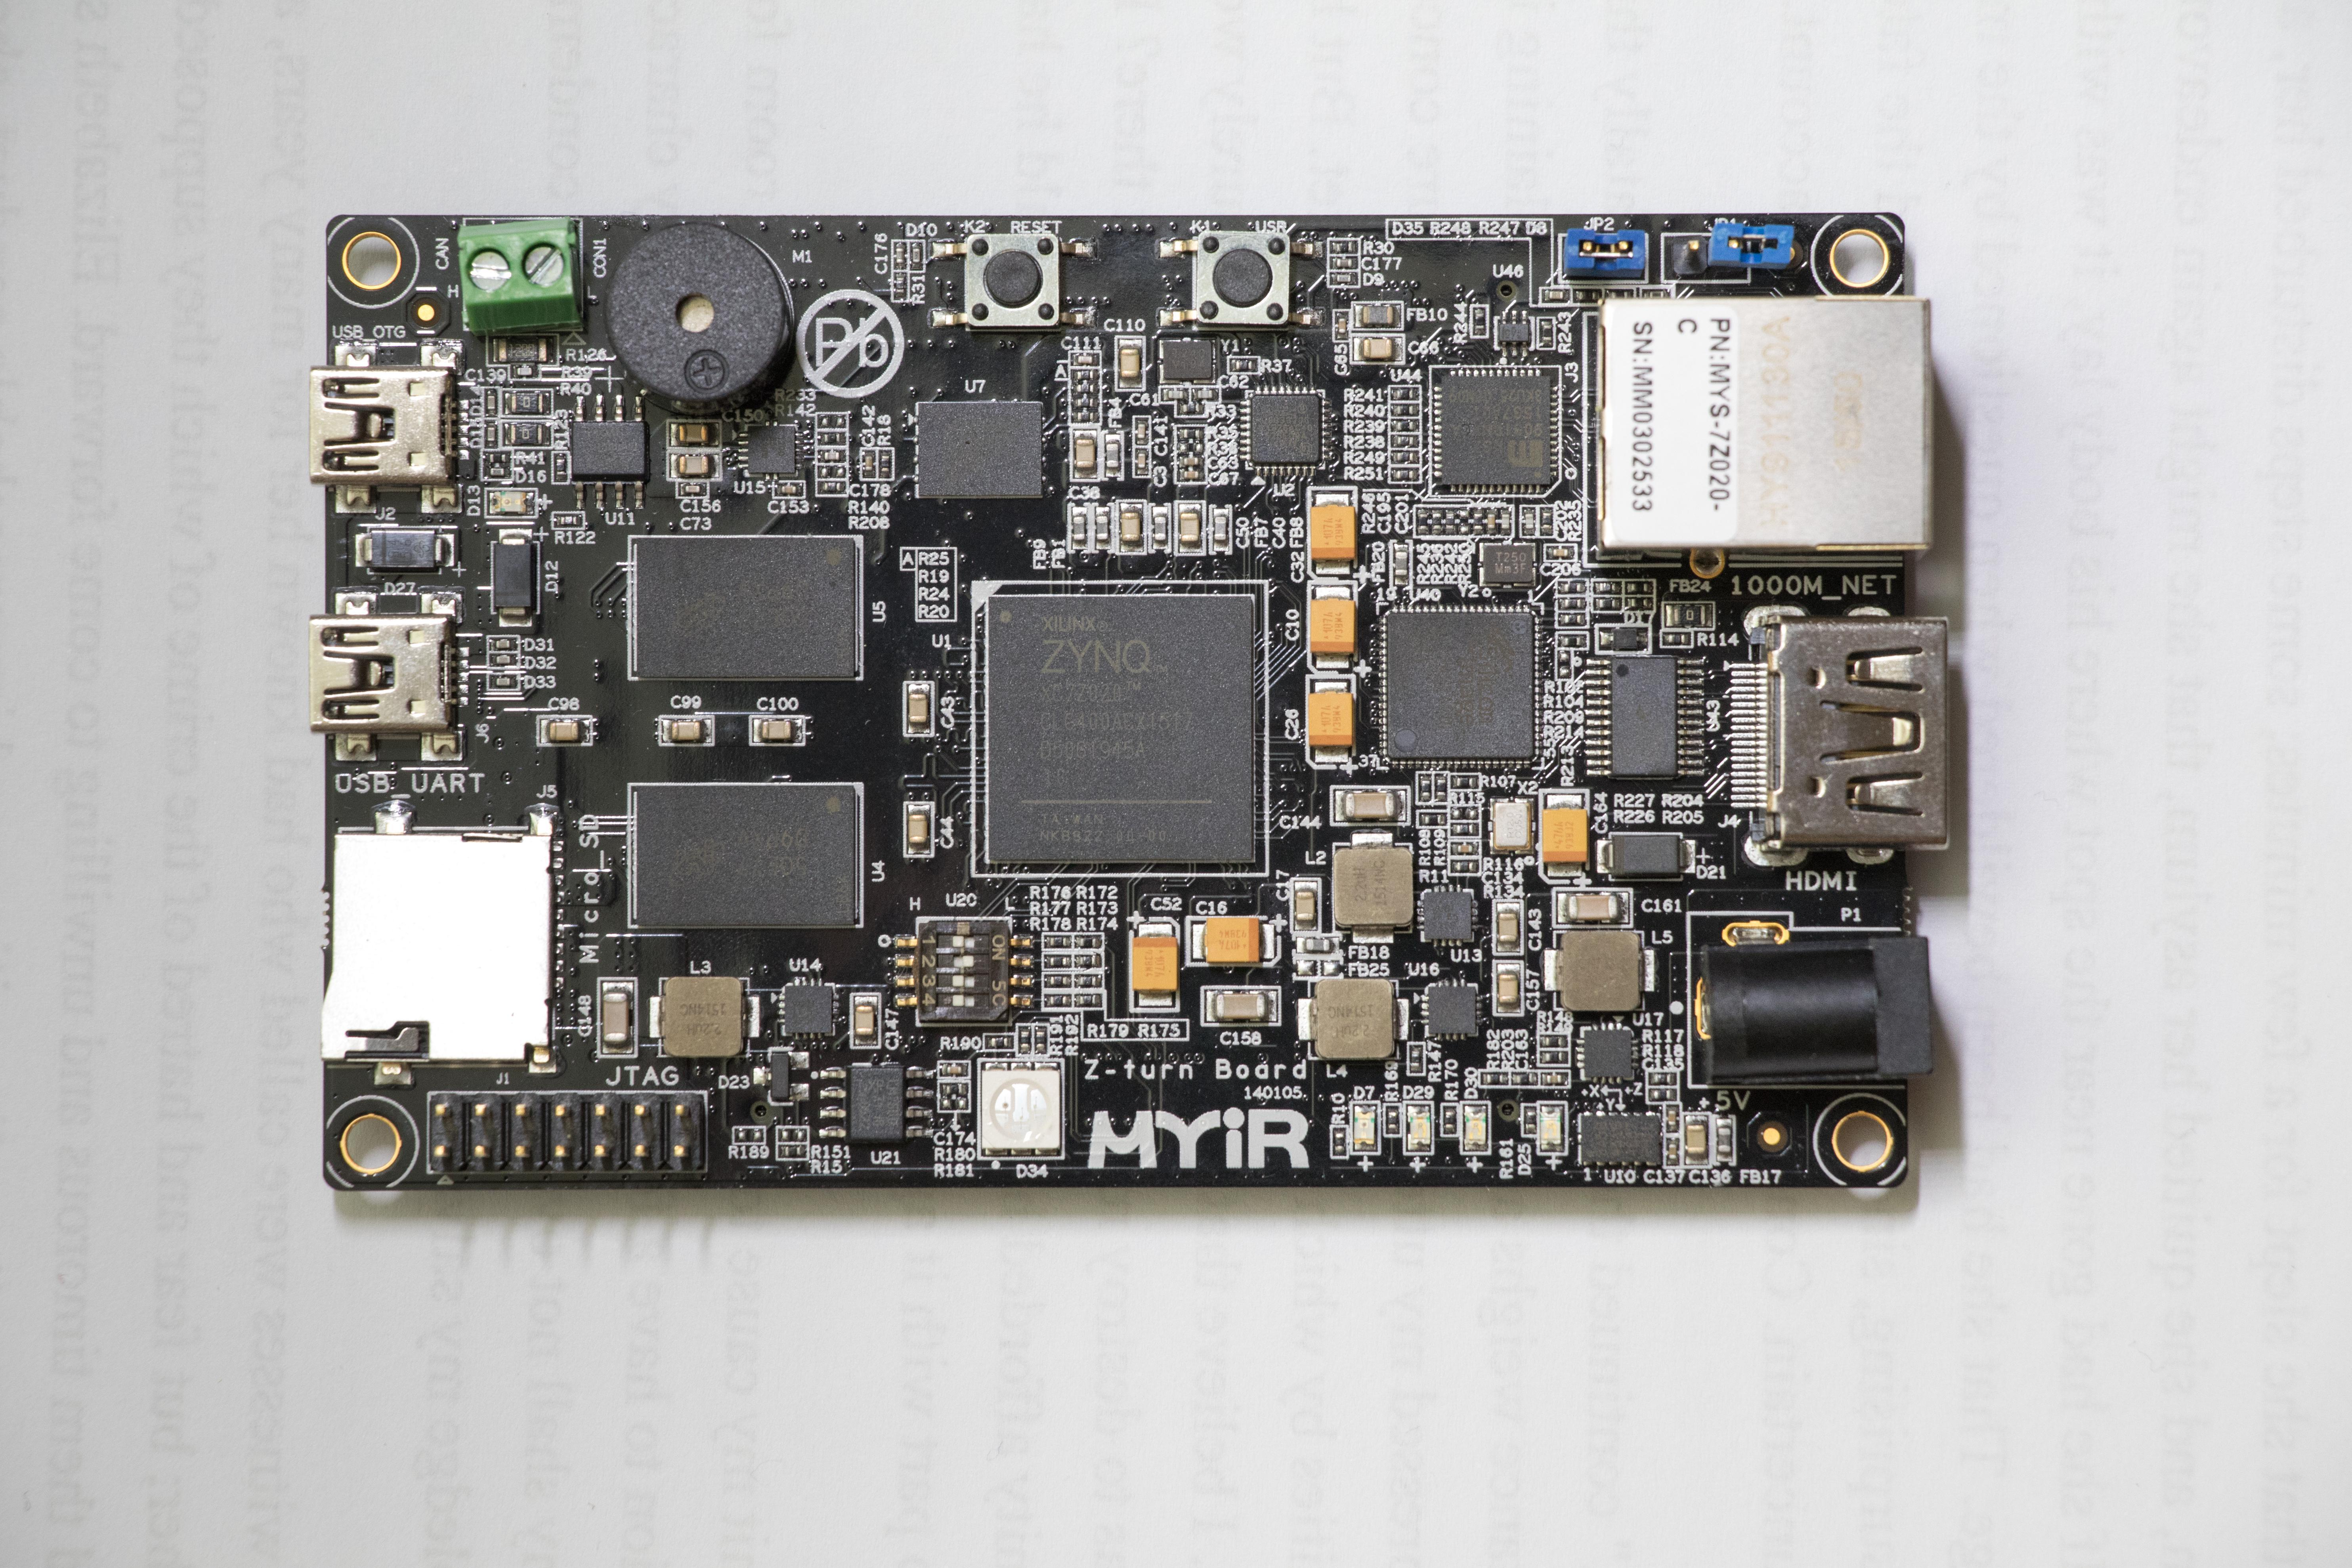Button: (1160, 232, 1323, 328), (932, 235, 1095, 327)
Capacitor: (1331, 785, 1412, 827), (1551, 886, 1632, 928), (597, 977, 637, 1058), (1200, 987, 1281, 1026), (902, 800, 935, 859), (749, 714, 805, 747), (659, 714, 716, 747), (902, 681, 934, 736), (1114, 335, 1145, 392), (666, 447, 720, 479), (1492, 962, 1525, 1016), (537, 715, 592, 746), (1682, 1112, 1712, 1167), (1175, 501, 1205, 556), (1071, 428, 1102, 479), (851, 993, 880, 1048), (665, 420, 721, 448), (1493, 901, 1522, 955), (1291, 879, 1320, 934), (1118, 501, 1145, 556), (1354, 336, 1404, 364), (1132, 446, 1153, 477), (815, 447, 848, 465), (859, 447, 877, 482), (1543, 544, 1577, 562), (891, 239, 909, 273), (938, 1060, 971, 1079), (1133, 415, 1152, 446), (772, 481, 805, 498), (1664, 1102, 1681, 1134), (1663, 1135, 1681, 1166), (1327, 254, 1361, 271), (675, 482, 709, 498), (1540, 1070, 1570, 1088), (1497, 505, 1513, 537), (1158, 386, 1190, 402), (1520, 506, 1536, 537), (1174, 468, 1208, 483), (1449, 841, 1481, 856), (1175, 454, 1209, 468), (1189, 386, 1220, 401), (1334, 311, 1350, 340), (1484, 504, 1497, 537), (510, 365, 539, 378)
Connector: (1584, 296, 1933, 569), (316, 808, 558, 1073), (1744, 605, 1951, 866), (1687, 913, 1936, 1089), (307, 338, 468, 512), (427, 1137, 713, 1223), (459, 216, 585, 331), (1659, 232, 1708, 283)
Diode: (306, 596, 469, 770), (1595, 832, 1697, 881), (352, 529, 458, 572), (491, 538, 538, 616), (751, 1048, 810, 1104), (1595, 624, 1652, 655), (487, 671, 520, 693), (1328, 271, 1361, 289), (1541, 287, 1572, 306), (487, 654, 521, 670), (908, 239, 924, 273), (482, 418, 499, 450), (483, 387, 499, 418), (482, 465, 514, 481), (488, 636, 520, 651), (1641, 287, 1673, 299)
Electrolytic Capacitor: (1306, 580, 1358, 672), (1306, 674, 1355, 770), (1307, 489, 1356, 582), (1540, 791, 1587, 882), (1132, 920, 1178, 1013), (1190, 918, 1280, 964)
IC: (972, 578, 1269, 874), (627, 782, 866, 934), (627, 534, 865, 682), (1382, 616, 1546, 773), (1429, 365, 1561, 496), (1586, 655, 1704, 777), (913, 401, 1045, 498), (820, 1062, 933, 1144), (571, 395, 648, 509), (1240, 384, 1332, 476), (1577, 1112, 1662, 1166), (738, 424, 802, 477), (780, 981, 836, 1038), (1422, 888, 1475, 943), (1423, 984, 1479, 1037), (1580, 1027, 1635, 1080), (1495, 317, 1533, 350)
Inductor: (1299, 978, 1409, 1060), (1331, 832, 1413, 942), (657, 976, 749, 1059), (1553, 930, 1644, 1010)
Led: (980, 1059, 1064, 1159), (1537, 1102, 1567, 1154), (1351, 1100, 1379, 1155), (1404, 1103, 1433, 1155), (1462, 1102, 1491, 1153)
Pads: (1295, 959, 1341, 978), (1446, 804, 1482, 823), (733, 1126, 767, 1144), (814, 413, 848, 430), (938, 1097, 973, 1113), (1174, 440, 1208, 456), (814, 464, 848, 479), (778, 1128, 808, 1144), (1556, 651, 1572, 678)
Resistor: (487, 334, 558, 364), (502, 418, 553, 447), (502, 389, 553, 416), (1439, 1102, 1460, 1136), (1074, 990, 1105, 1012), (1660, 628, 1693, 649), (1388, 465, 1422, 484), (1406, 1041, 1426, 1075), (1536, 317, 1556, 350), (814, 479, 849, 498), (1383, 1103, 1402, 1137), (1041, 991, 1074, 1010), (1415, 504, 1433, 539), (815, 429, 848, 447), (1448, 857, 1482, 876), (1556, 578, 1588, 598), (1647, 1069, 1679, 1088), (550, 451, 569, 483), (1470, 306, 1489, 337), (551, 512, 585, 529), (892, 269, 910, 303), (1510, 1068, 1540, 1088), (1645, 1087, 1679, 1104), (1041, 973, 1074, 991), (1556, 596, 1590, 613), (1448, 821, 1481, 838), (1018, 1022, 1035, 1056), (1536, 1049, 1571, 1065), (1556, 633, 1590, 649), (1623, 579, 1655, 596), (983, 1033, 1015, 1051), (1073, 973, 1105, 990), (1073, 953, 1104, 971), (1416, 772, 1433, 805), (1540, 504, 1556, 537), (1389, 433, 1422, 449), (1033, 1024, 1049, 1058), (1042, 934, 1074, 951), (1539, 1033, 1570, 1050), (1479, 1070, 1510, 1087), (1067, 411, 1103, 426), (1448, 774, 1481, 791), (1523, 1103, 1539, 1135), (1043, 953, 1074, 970), (1068, 395, 1102, 410), (1418, 810, 1448, 827), (1229, 358, 1260, 374), (776, 1144, 809, 1160), (1389, 386, 1421, 402), (1175, 424, 1208, 440), (879, 448, 894, 481), (938, 1081, 971, 1096), (1388, 418, 1422, 433), (1558, 612, 1592, 626), (1077, 933, 1104, 951), (1592, 596, 1622, 612), (1591, 580, 1622, 595), (1329, 239, 1360, 254), (1444, 504, 1458, 539), (1459, 504, 1471, 539), (1573, 287, 1601, 303), (482, 450, 511, 465), (1389, 403, 1422, 417), (1471, 505, 1485, 538), (1624, 597, 1655, 611), (1433, 504, 1445, 539), (1070, 369, 1100, 383), (1434, 772, 1448, 803), (1068, 384, 1103, 396), (1175, 402, 1205, 416), (1606, 288, 1633, 300)
Switch: (896, 916, 1031, 1027)
